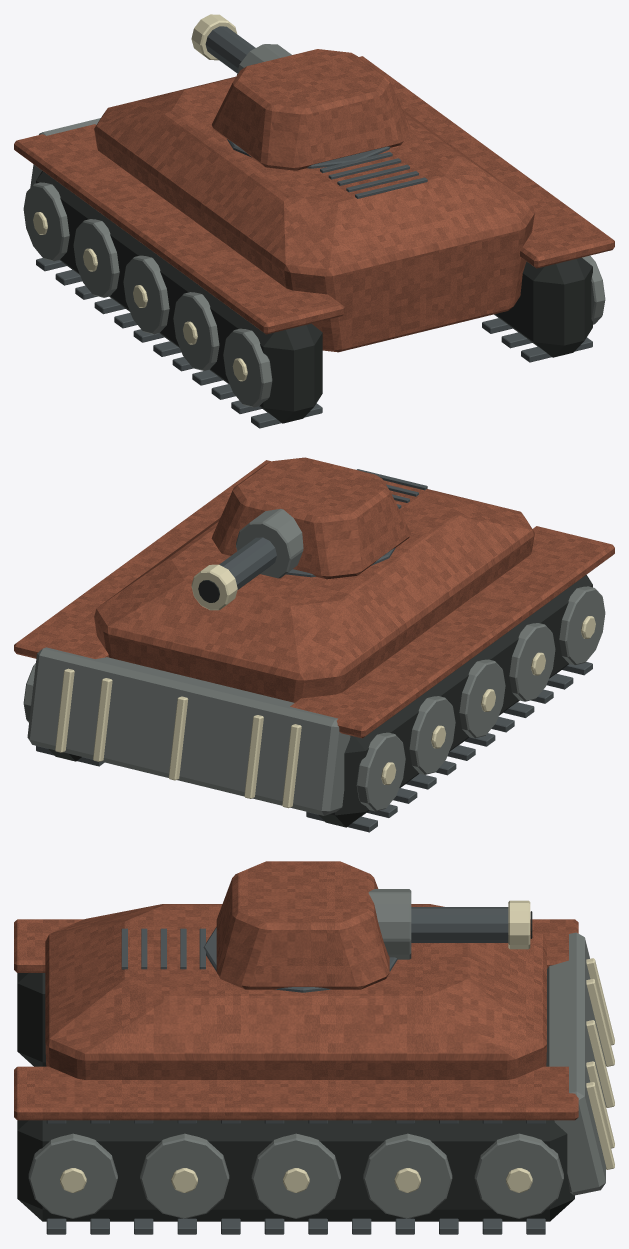
The picture shows the model from 3 angles, top to bottom: view 1: azimuth 30°, elevation 25°; view 2: azimuth 150°, elevation 25°; view 3: azimuth 270°, elevation 25°; orthographic projection. The views are drawn at different scales.
Visible parts, largest first — view 1: ST2-E02_Mesh, Track_L_Mesh, TurretYaw_Mesh, Track_R_Mesh, BarrelRecoil_Mesh; view 2: ST2-E02_Mesh, Track_L_Mesh, TurretYaw_Mesh, BarrelRecoil_Mesh, Track_R_Mesh; view 3: ST2-E02_Mesh, Track_R_Mesh, TurretYaw_Mesh, BarrelRecoil_Mesh, Track_L_Mesh.
Part boxes in pixels (x1,y1,x2,y2): ST2-E02_Mesh: [14, 56, 614, 352]; Track_L_Mesh: [23, 171, 322, 428]; TurretYaw_Mesh: [212, 49, 410, 170]; Track_R_Mesh: [482, 255, 605, 362]; BarrelRecoil_Mesh: [191, 14, 291, 75]; ST2-E02_Mesh: [14, 460, 614, 815]; Track_L_Mesh: [306, 575, 605, 832]; TurretYaw_Mesh: [211, 457, 410, 579]; BarrelRecoil_Mesh: [191, 508, 303, 610]; Track_R_Mesh: [23, 663, 104, 766]; ST2-E02_Mesh: [14, 904, 614, 1195]; Track_R_Mesh: [17, 1120, 574, 1234]; TurretYaw_Mesh: [203, 861, 397, 992]; BarrelRecoil_Mesh: [368, 889, 532, 959]; Track_L_Mesh: [17, 973, 46, 1066].
Size of the model in its own units: 3.26 by 1.99 by 4.31.
5 materials, 1 textured.
